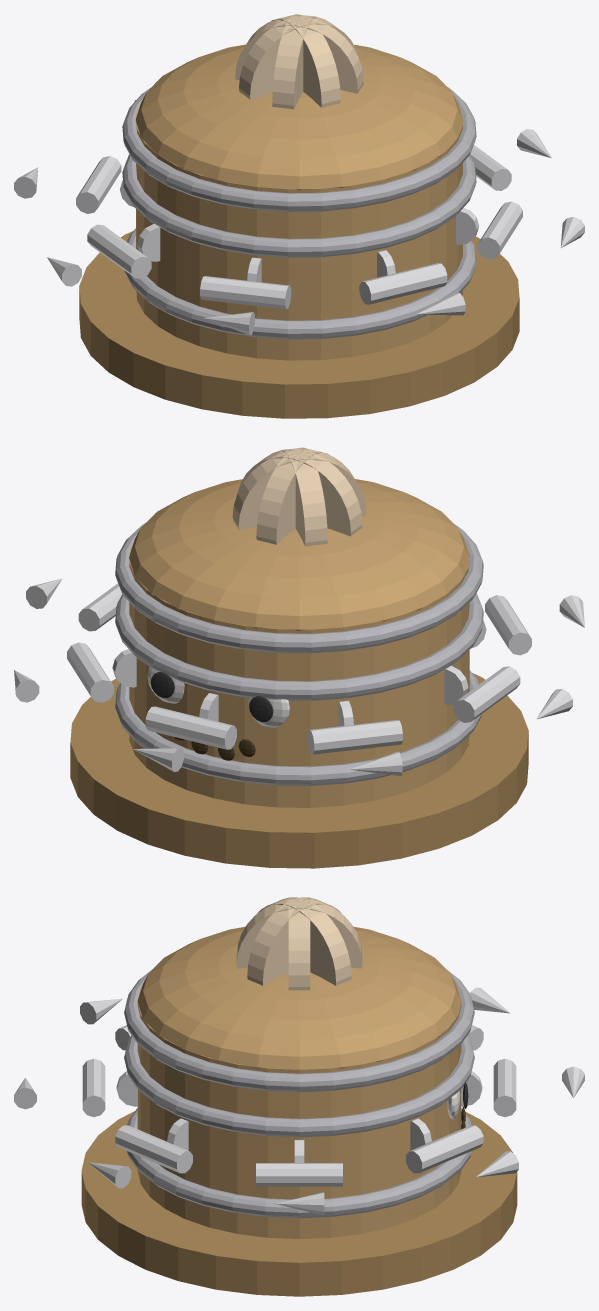
Rendered from tack_shoot.fbx.
The picture shows the model from 3 angles, top to bottom: view 1: azimuth 30°, elevation 25°; view 2: azimuth 150°, elevation 25°; view 3: azimuth 270°, elevation 25°; orthographic projection. The views are drawn at different scales.
Visible parts, largest first — view 1: Base, TopCap, Barrel, Band_Top, Band_Mid, Band_Low, Disk_02, Disk_00, TackShaft_5, TackShaft_6, Disk_01, TackShaft_4 (+16 smaller); view 2: Base, TopCap, Barrel, Band_Top, Band_Mid, Band_Low, Disk_00, TackShaft_3, TackShaft_2, Disk_02, Disk_01, Disk_03 (+17 smaller); view 3: Base, TopCap, Barrel, Band_Top, Band_Mid, Band_Low, Disk_03, Disk_02, TackShaft_0, TackShaft_1, TackShaft_7, Disk_00 (+15 smaller).
Part boxes in pixels (left/top/right/bottom): Base: left=79, top=231, right=519, bottom=418; TopCap: left=135, top=44, right=463, bottom=190; Barrel: left=136, top=105, right=462, bottom=360; Band_Top: left=122, top=86, right=476, bottom=211; Band_Mid: left=122, top=154, right=476, bottom=257; Band_Low: left=124, top=228, right=476, bottom=339; Disk_02: left=273, top=14, right=340, bottom=107; Disk_00: left=239, top=15, right=358, bottom=98; TackShaft_5: left=200, top=276, right=291, bottom=309; TackShaft_6: left=359, top=263, right=447, bottom=304; Disk_01: left=272, top=14, right=316, bottom=109; TackShaft_4: left=87, top=224, right=151, bottom=278; Base: left=70, top=673, right=528, bottom=868; TopCap: left=129, top=479, right=469, bottom=630; Barrel: left=129, top=542, right=469, bottom=807; Band_Top: left=115, top=523, right=483, bottom=653; Band_Mid: left=115, top=593, right=483, bottom=700; Band_Low: left=115, top=670, right=481, bottom=785; Disk_00: left=254, top=448, right=362, bottom=536; TackShaft_3: left=308, top=720, right=402, bottom=754; TackShaft_2: left=145, top=706, right=236, bottom=749; Disk_02: left=256, top=447, right=316, bottom=544; Disk_01: left=233, top=449, right=365, bottom=530; Disk_03: left=282, top=448, right=327, bottom=546; Base: left=81, top=1111, right=517, bottom=1296; TopCap: left=137, top=926, right=461, bottom=1069; Barrel: left=137, top=986, right=461, bottom=1239; Band_Top: left=124, top=970, right=474, bottom=1092; Band_Mid: left=124, top=1035, right=474, bottom=1137; Band_Low: left=127, top=1108, right=471, bottom=1218; Disk_03: left=247, top=897, right=338, bottom=985; Disk_02: left=236, top=898, right=362, bottom=968; TackShaft_0: left=256, top=1163, right=342, bottom=1186; TackShaft_1: left=406, top=1125, right=483, bottom=1173; TackShaft_7: left=115, top=1125, right=192, bottom=1173; Disk_00: left=288, top=897, right=310, bottom=990.
Size of the model in its own units: 275 by 160 by 275.
